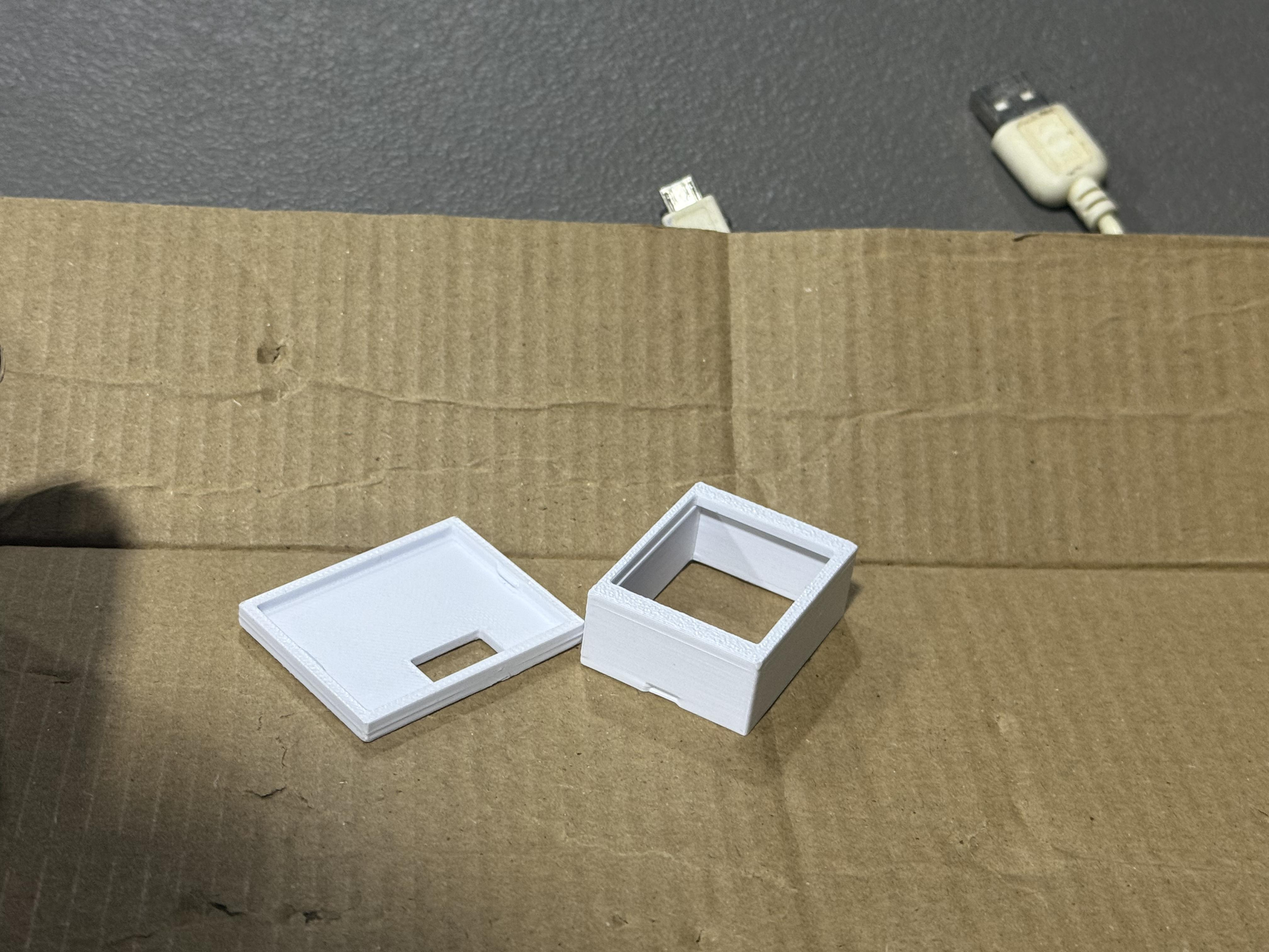enclosure: (238, 516, 585, 743), (579, 482, 859, 737)
